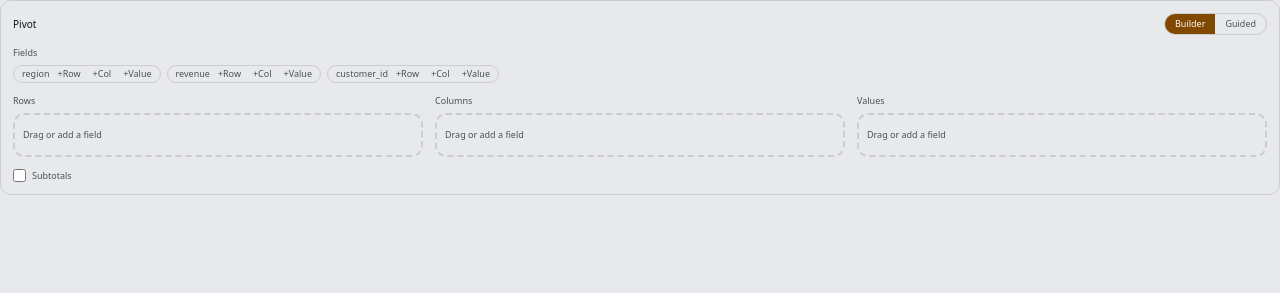
Test: PivotBuilder › adding a Quantitative field to Values defaults its aggregate to sum, shown in the compiled SQL
What coordinates should you click on to do the following:
click the button titled "Add revenue to values" in the row of "revenue"
I would click on:
 (298, 74)
Its box is [280, 68, 316, 80].
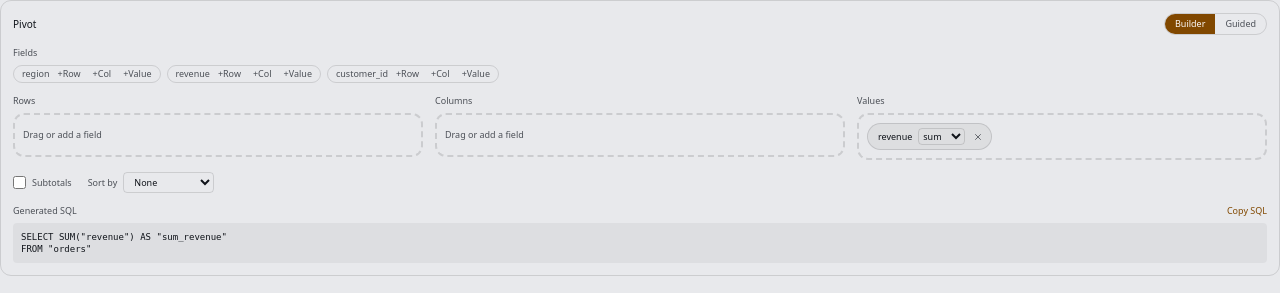
Expected: the text "SELECT SUM(\"revenue\") AS \"sum_revenue\" FROM \"orders\"" shows "SUM(\"revenue\") AS \"sum_revenue\"", [21, 232, 227, 254]
